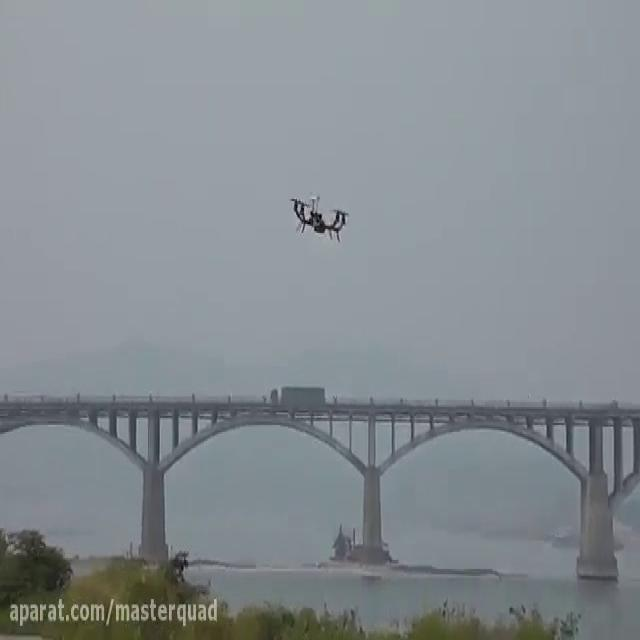drone: (286, 190, 353, 242)
